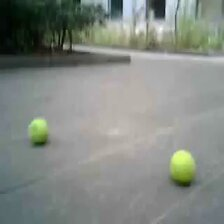tennis: (170, 151, 194, 181), (29, 119, 47, 143)
